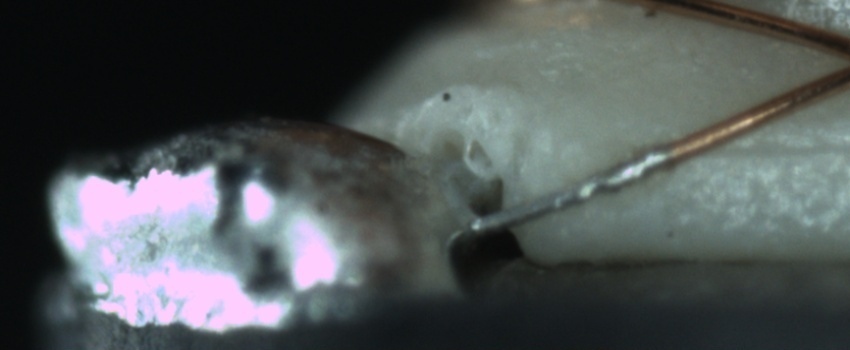DL: (690, 121, 849, 185)
TS: (473, 145, 675, 234)
TTCW: (466, 121, 732, 236)
